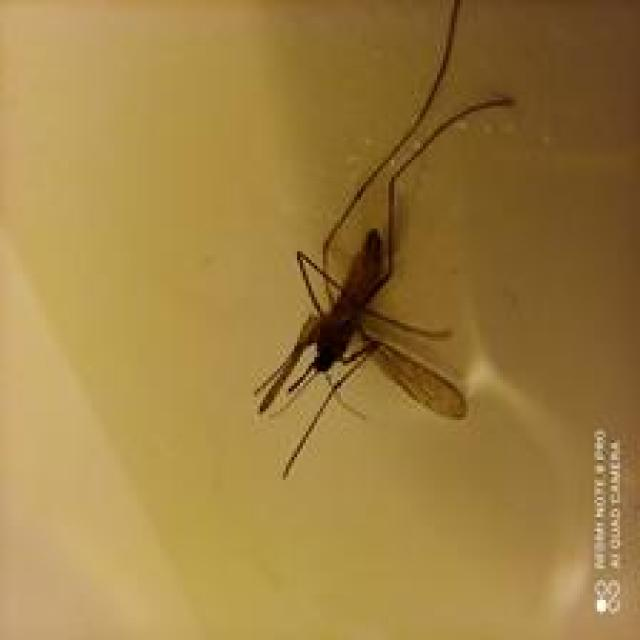Culex: (253, 0, 516, 480)
